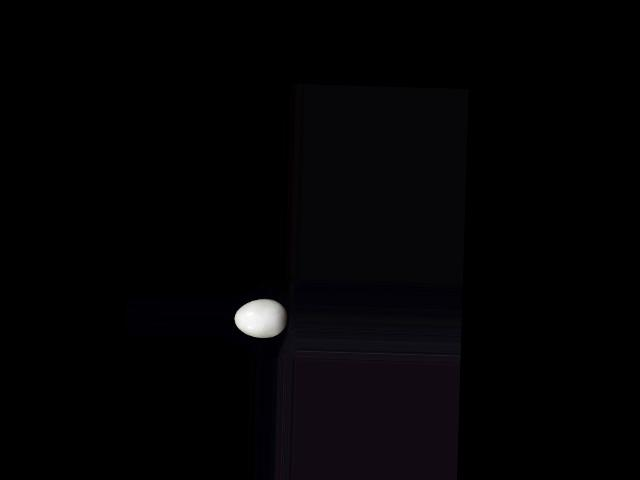egg: (234, 299, 288, 338)
